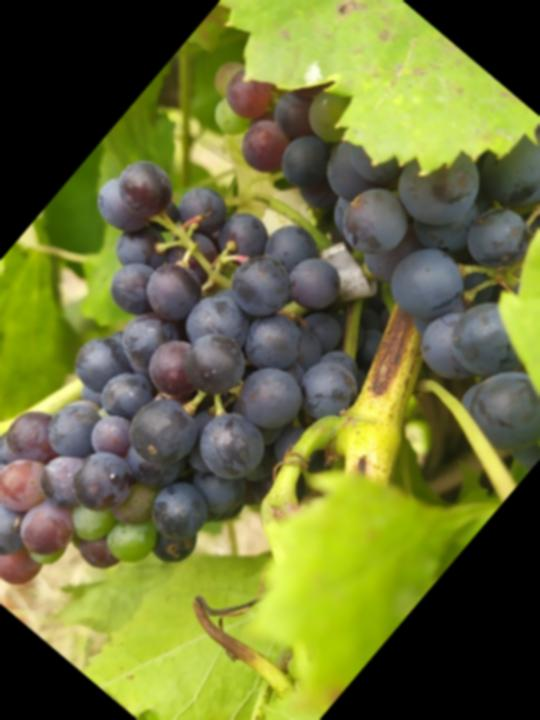grape: (0, 111, 432, 694)
